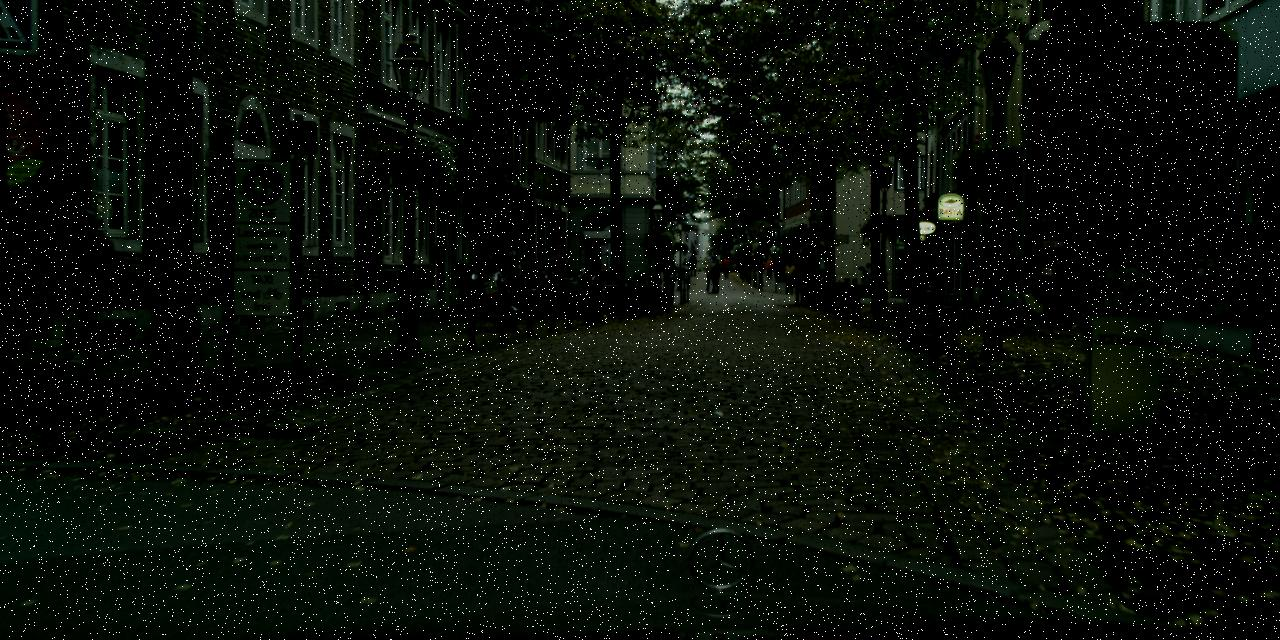ped: (61, 208, 121, 356), (544, 244, 568, 304), (926, 252, 949, 308), (498, 251, 521, 307), (518, 251, 540, 306), (660, 259, 678, 303), (708, 258, 723, 293), (782, 260, 796, 294), (703, 258, 716, 291), (688, 252, 698, 276), (721, 256, 730, 278), (765, 257, 774, 279)
